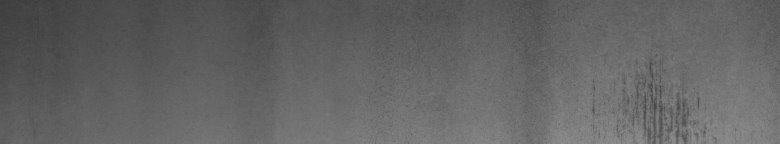ka: (582, 61, 716, 136)
